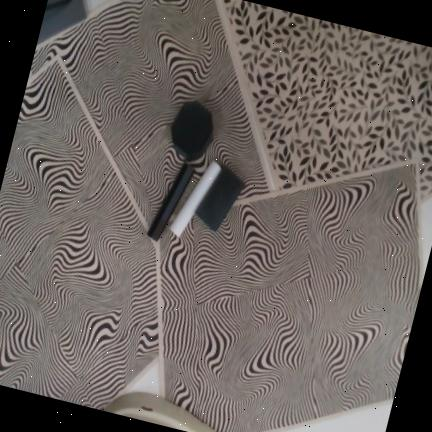Cilindro: (170, 159, 221, 237), (146, 162, 194, 241)
Paralelepipedo: (193, 164, 244, 232)
Prisma_hexagonal: (170, 100, 213, 161)
